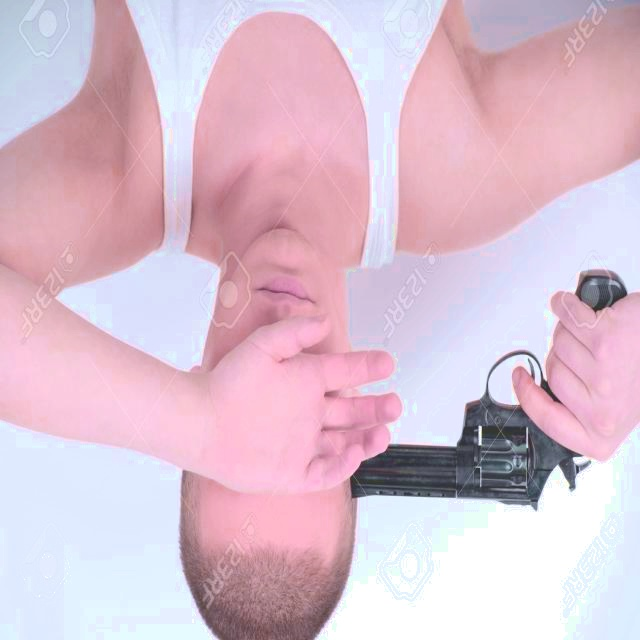gun: (338, 259, 627, 518)
